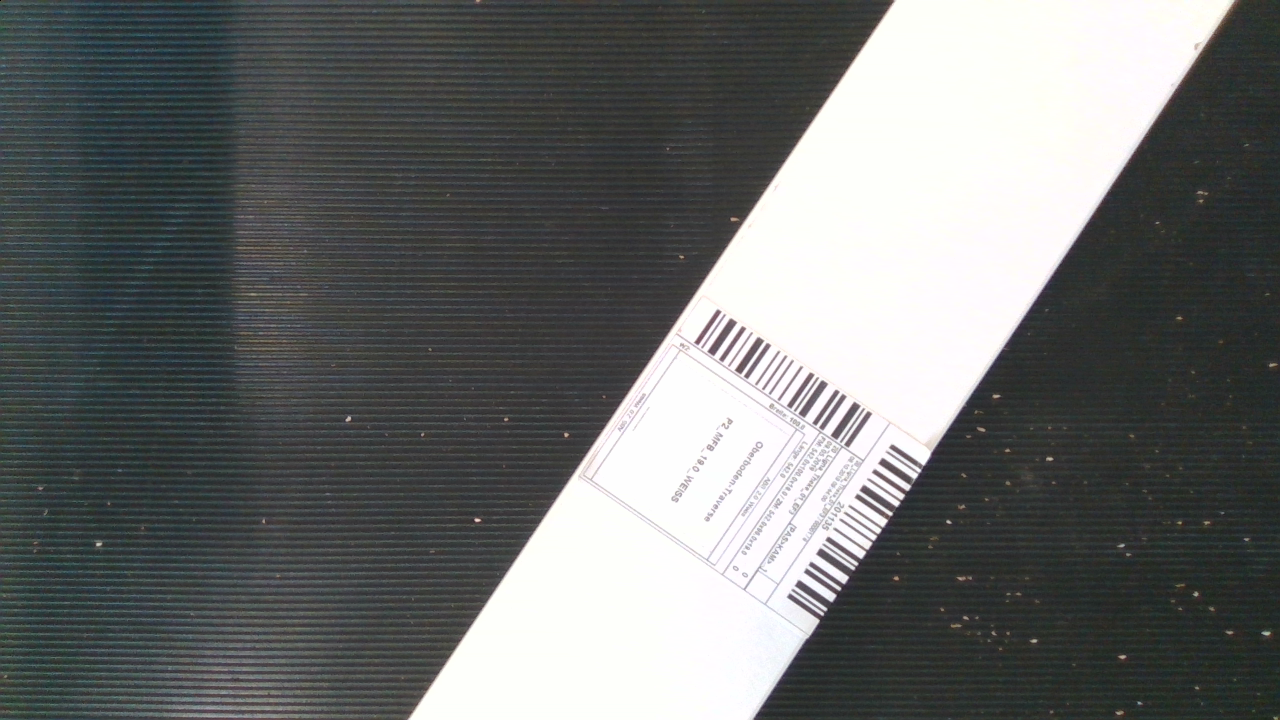barcode: (578, 300, 940, 634)
